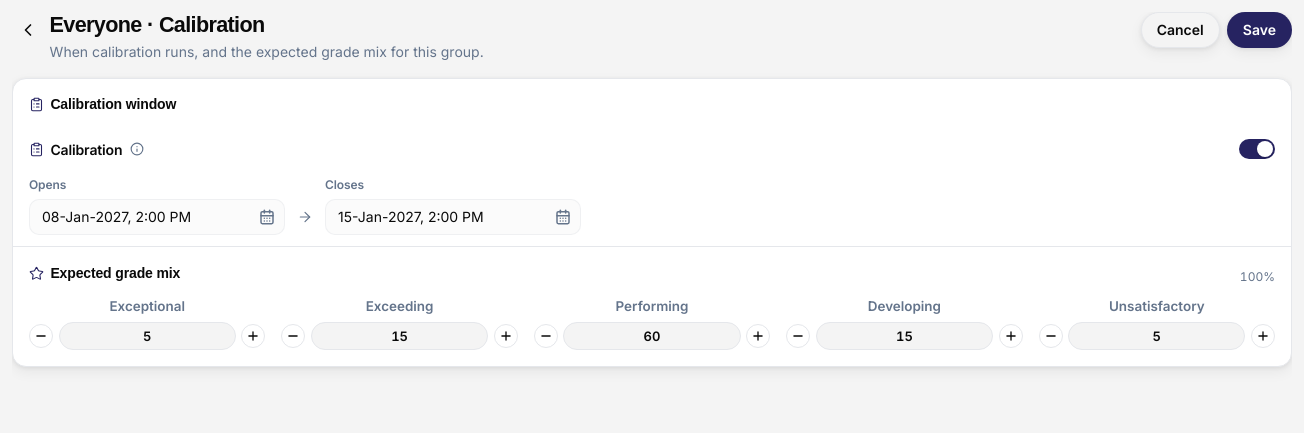
CalibrationEditPage › shows calibration windows and the expected grade mix
The image size is (1304, 433).
Expected: the button "Save" is shown, x1=1227 y1=12 x2=1292 y2=48
Expected: the heading "Calibration window" is shown, x1=29 y1=94 x2=176 y2=115
Click the button named "Increase Exceptional".
click(253, 336)  # box x1=241 y1=324 x2=265 y2=348
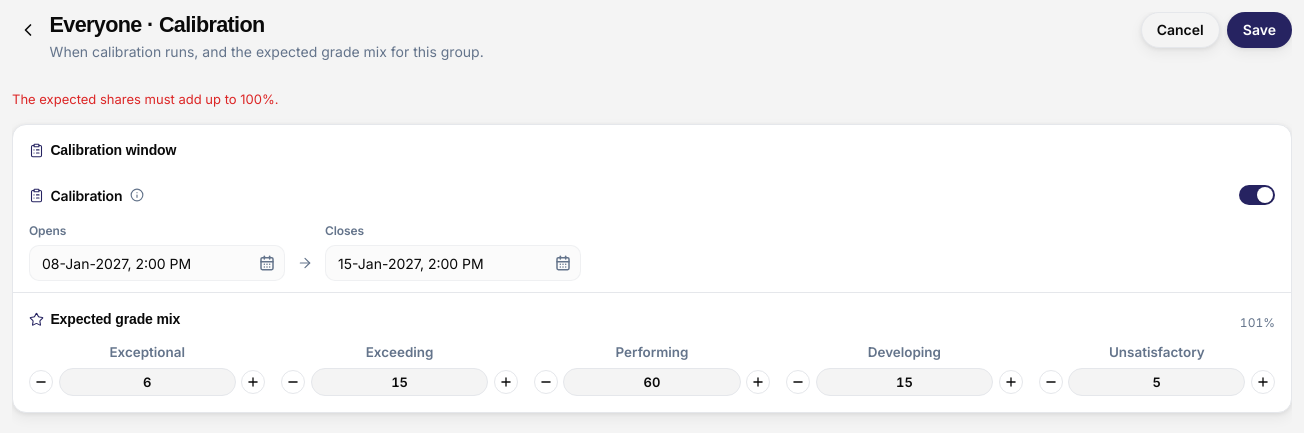
Result: the message reads "The expected shares must add up to 100%." at x1=12 y1=91 x2=278 y2=107
